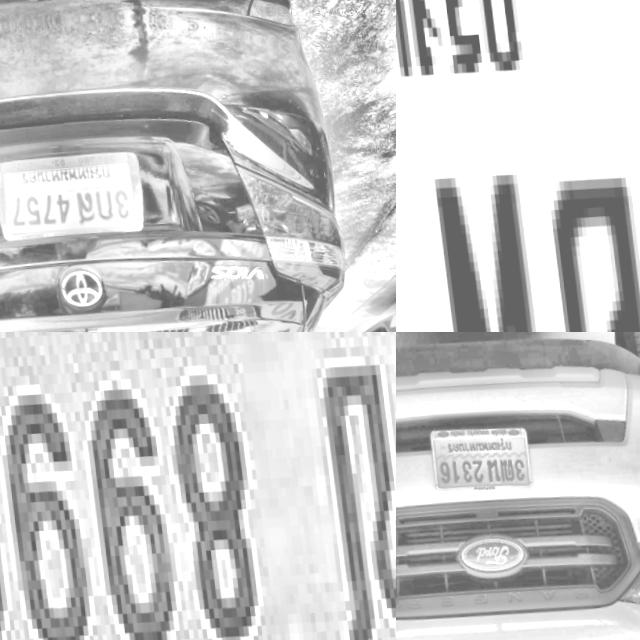license-plate: (0, 332, 396, 640), (396, 0, 640, 332), (0, 142, 144, 244), (423, 414, 535, 498), (354, 322, 380, 332)
